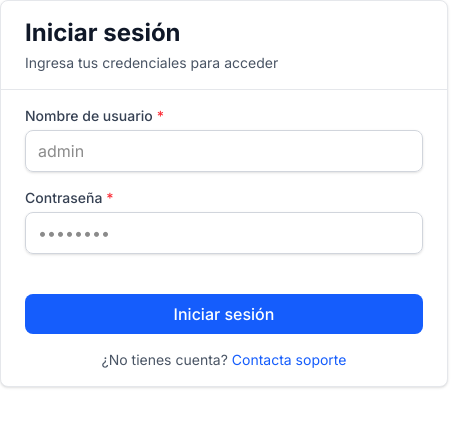
Test: LoginForm Component › should show validation error for short password
This screenshot has width=465, height=429.
Step 1. Type "123" into the password field labelled "Contraseña*" → (224, 233), box [25,212,423,254]
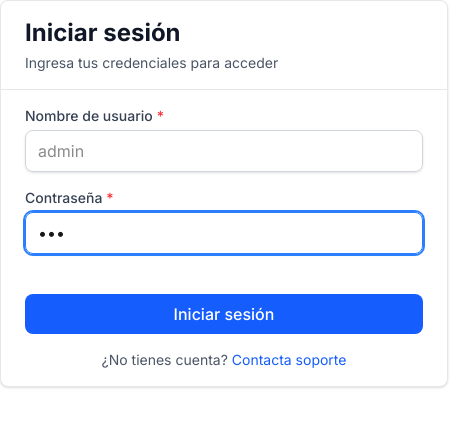
Step 2. Press Tab
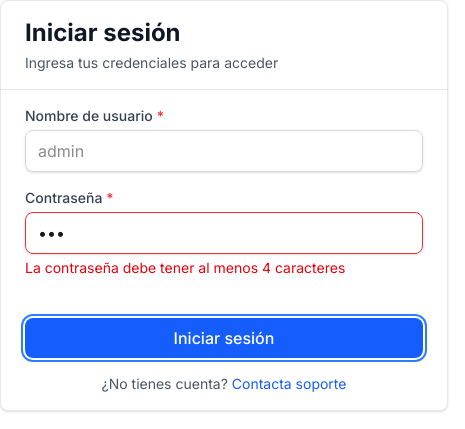
expect the text "La contraseña debe tener al menos 4 caracteres" is shown: met, box [25,259,345,276]
